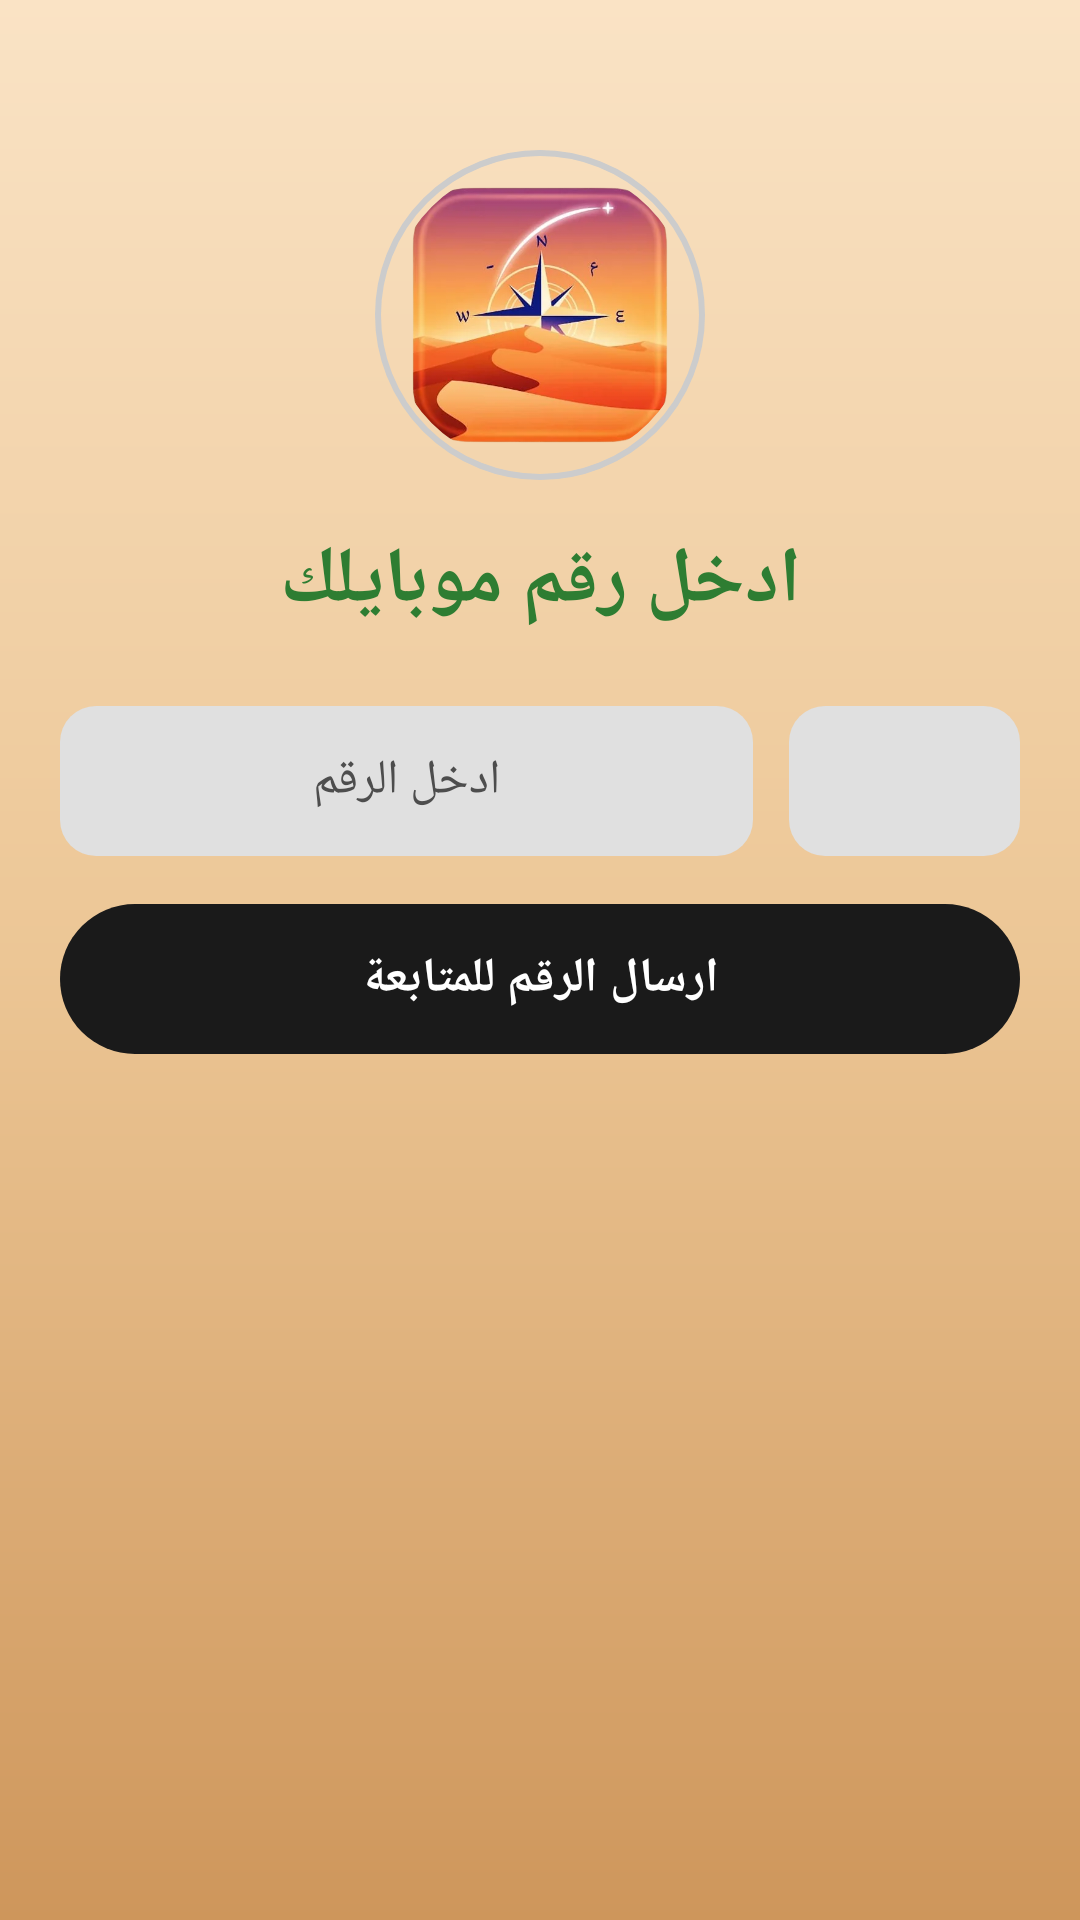

Named icons in this screenshot (1080px x 1920px) and their bounding boxes, bbox=[x1, y1, x2, y2]:
app: bbox=[413, 188, 667, 442]
